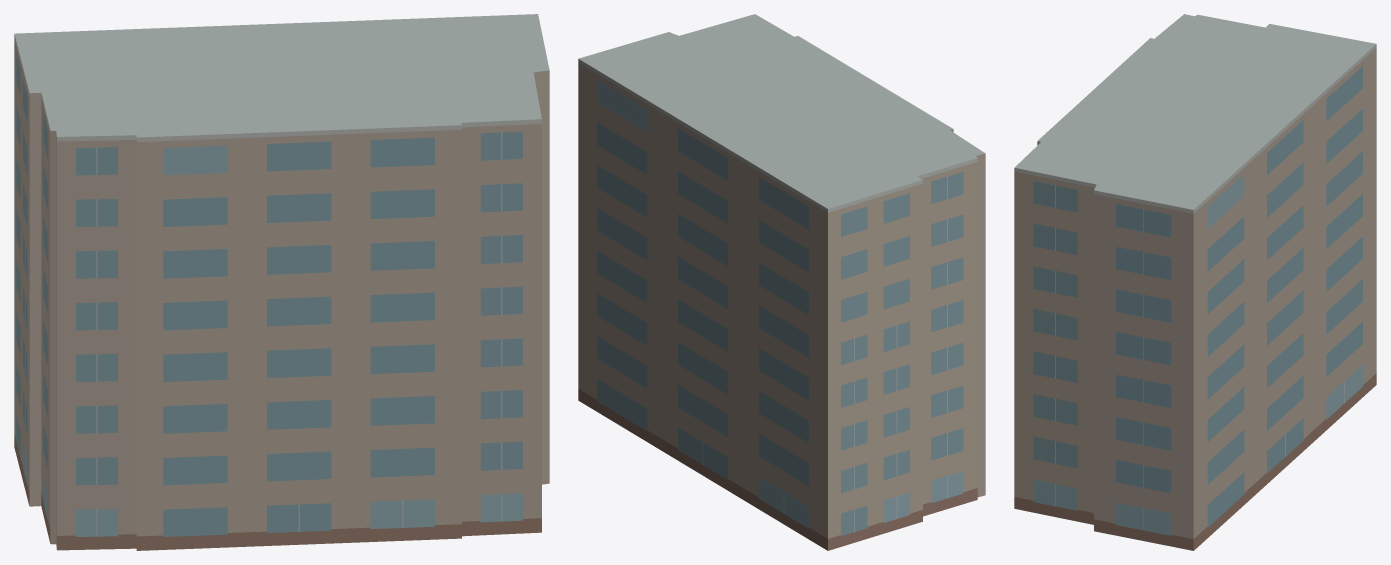
The model's file is survey-upis-32776058.glb.
The picture shows the model from 3 angles, left to right: view 1: azimuth 30°, elevation 25°; view 2: azimuth 150°, elevation 25°; view 3: azimuth 270°, elevation 25°; orthographic projection. The views are drawn at different scales.
Parts seen in each view (by area): view 1: survey-upis-32776058.tmp; view 2: survey-upis-32776058.tmp; view 3: survey-upis-32776058.tmp.
Boxes of the visible parts, bbox=[...] form: survey-upis-32776058.tmp: bbox=[14, 14, 549, 550]; survey-upis-32776058.tmp: bbox=[578, 14, 985, 550]; survey-upis-32776058.tmp: bbox=[1014, 14, 1376, 550].
Bounding box in the file's own units: 27.37 × 22.2 × 21.39.
